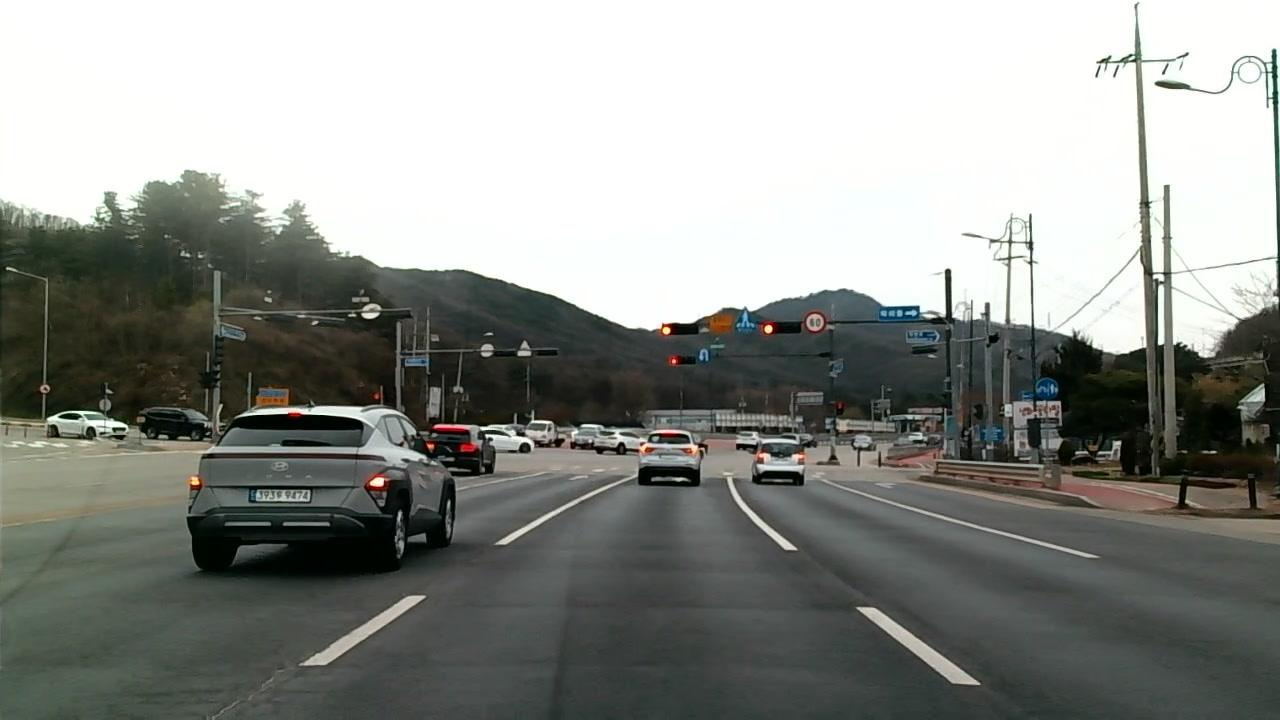vcrack: (197, 664, 298, 720)
